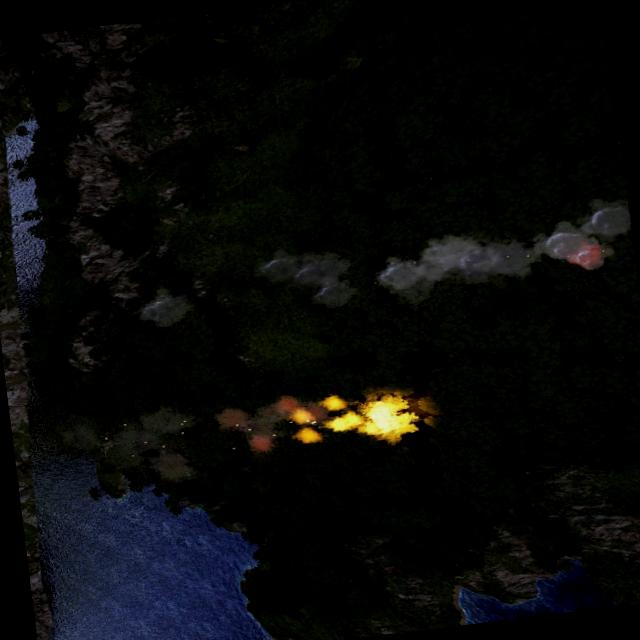fire: (287, 382, 420, 451)
smoke: (367, 189, 636, 296), (52, 388, 325, 492), (258, 242, 354, 316), (138, 284, 192, 324)
